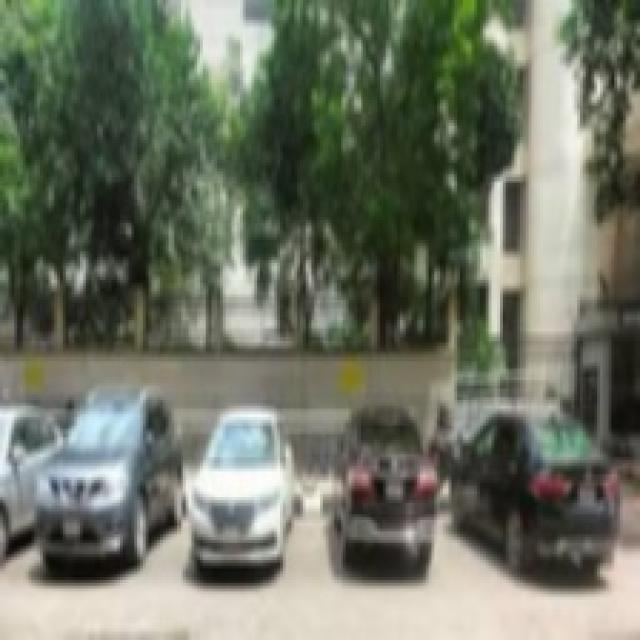car: (454, 389, 628, 578), (35, 374, 180, 572), (181, 410, 308, 579), (331, 393, 441, 570)
